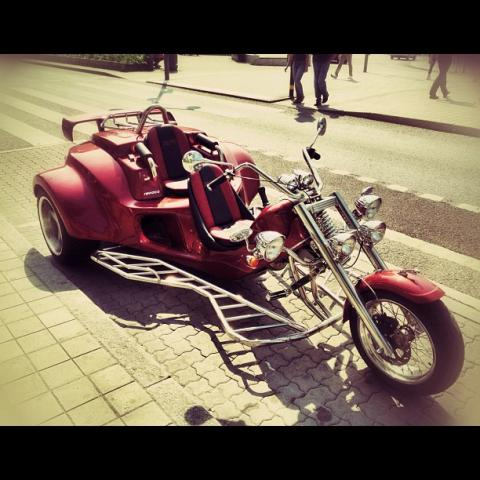motorcycle: (31, 101, 466, 398)
